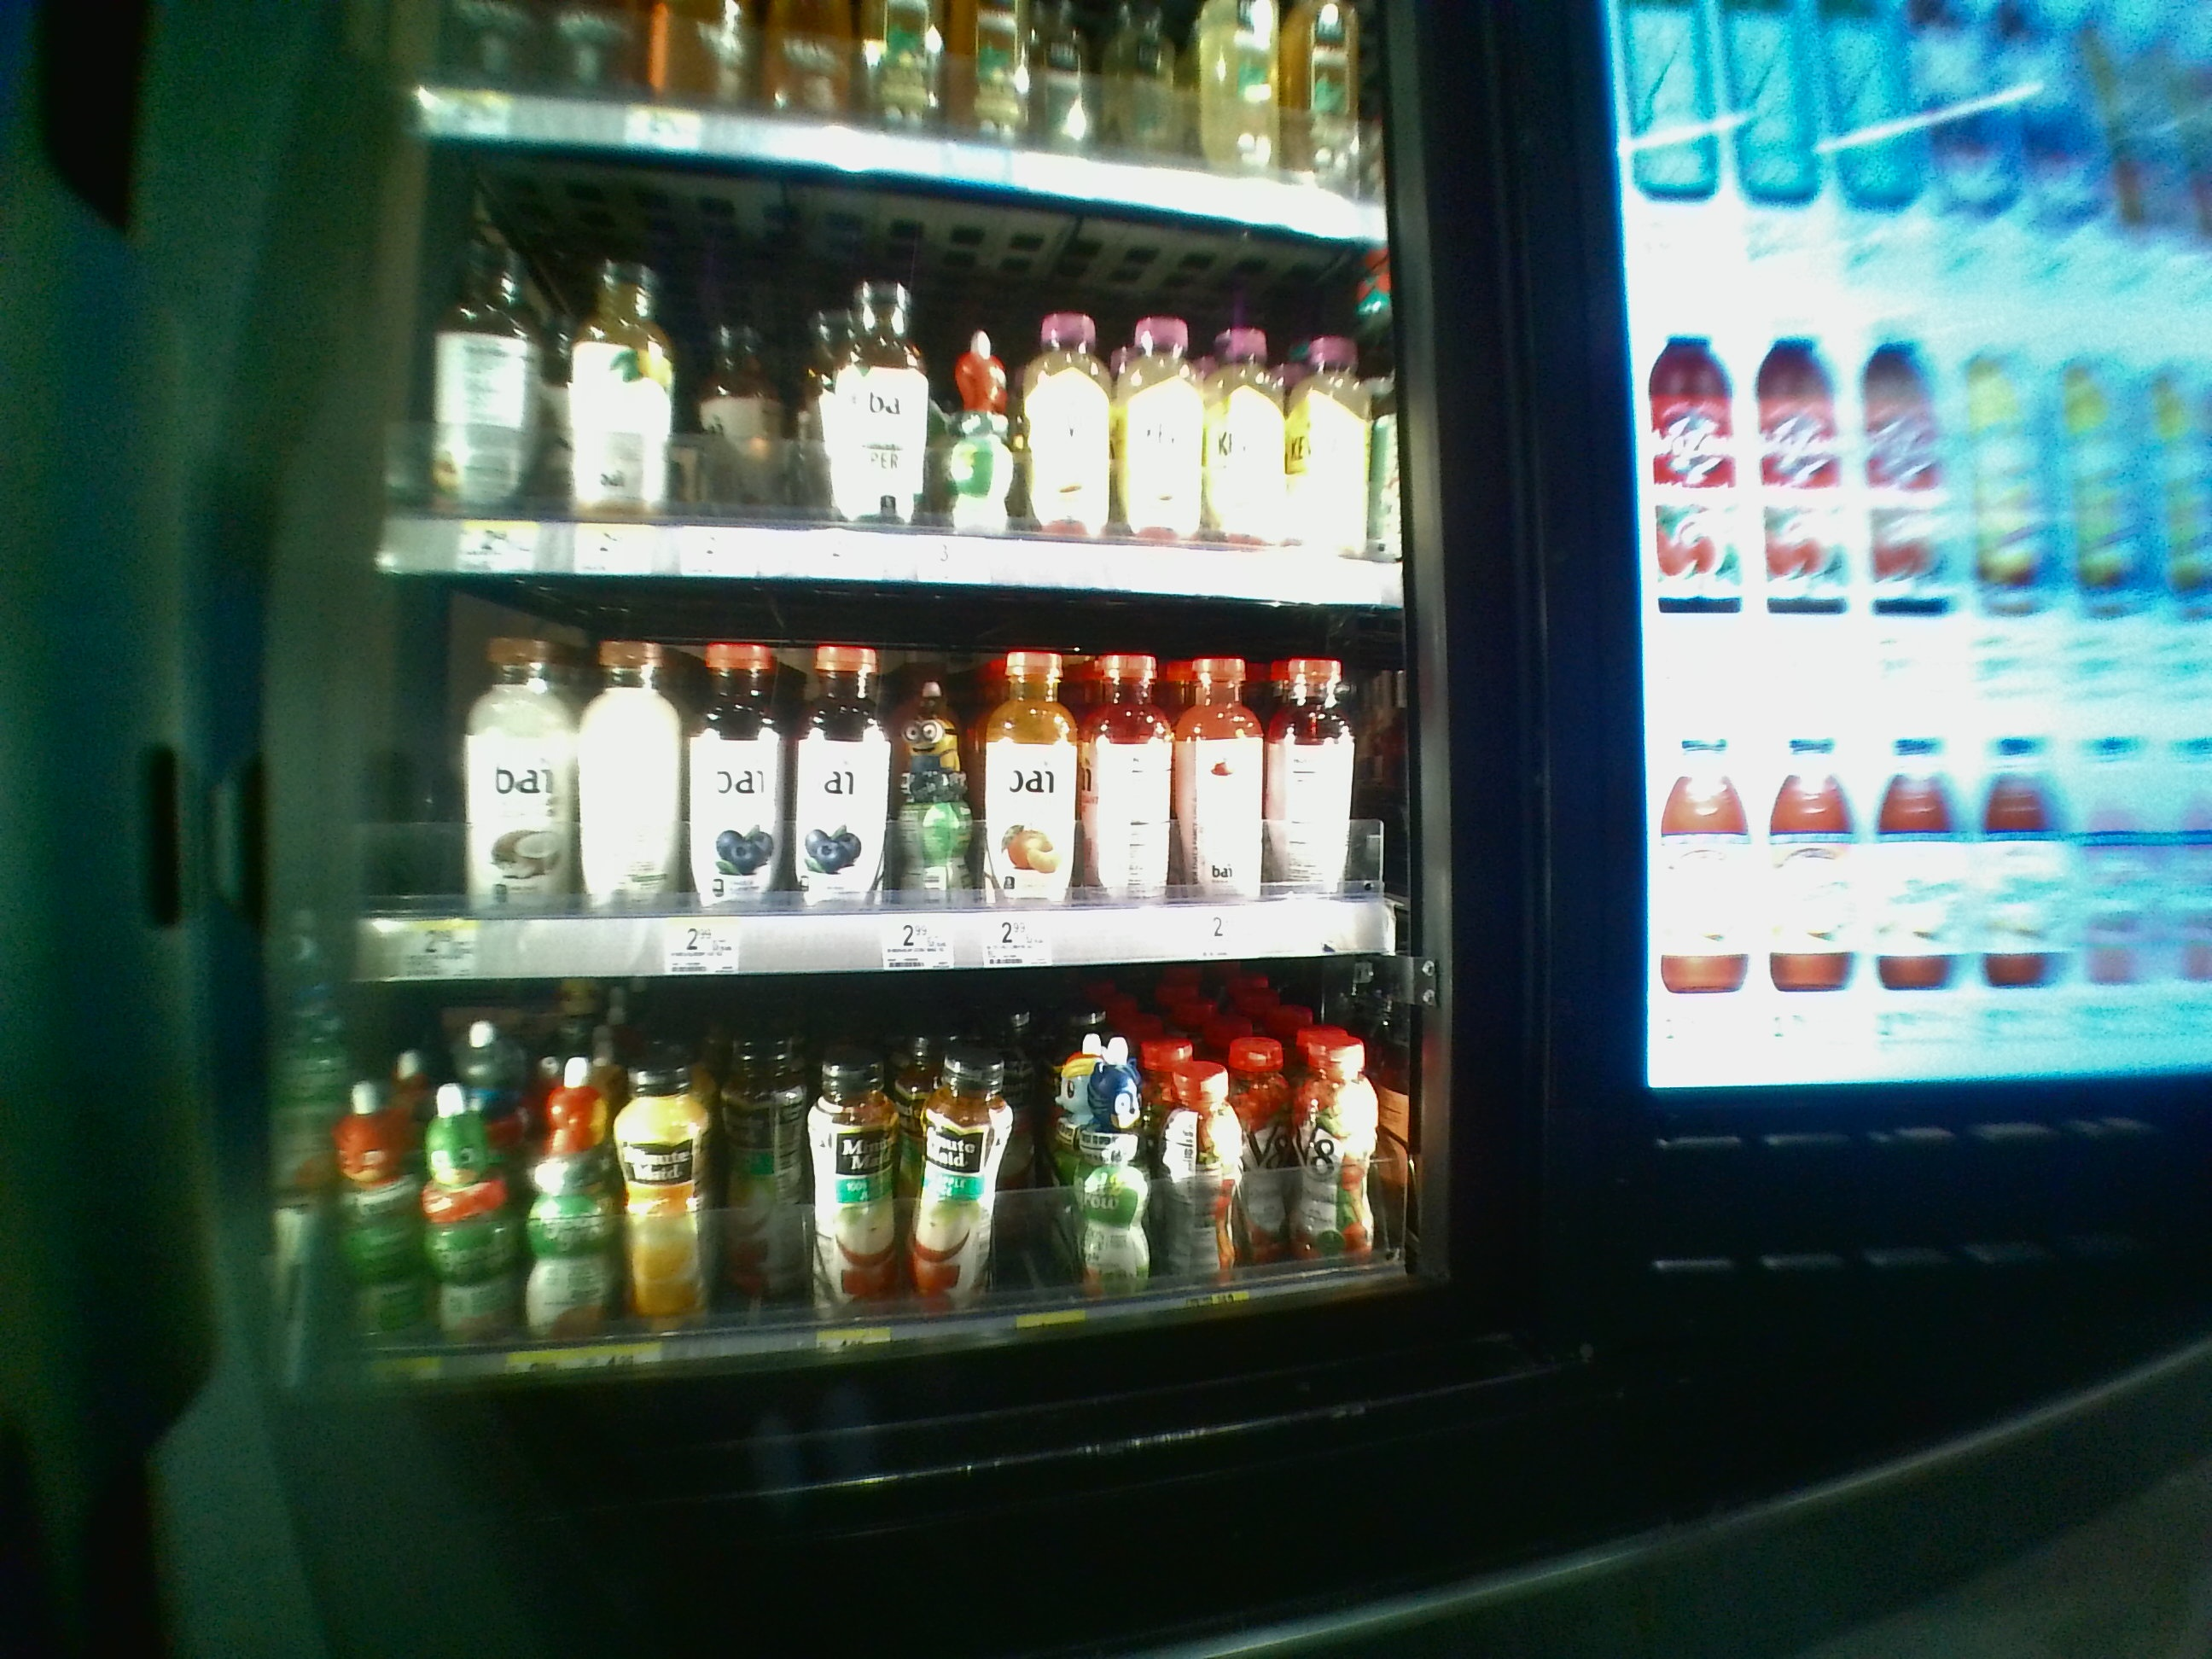shelf: (359, 141, 1399, 587), (350, 988, 1433, 1396), (355, 603, 1400, 969)
